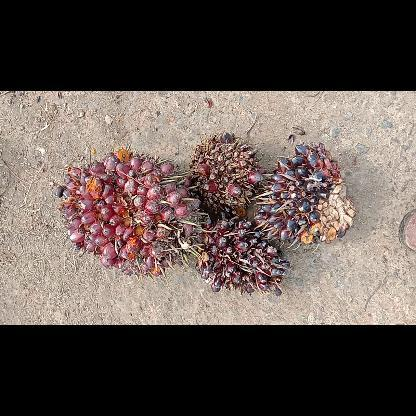TBS abnormal: (256, 143, 354, 245), (196, 216, 288, 294), (189, 132, 263, 220)
TBS masak: (58, 146, 200, 276)
